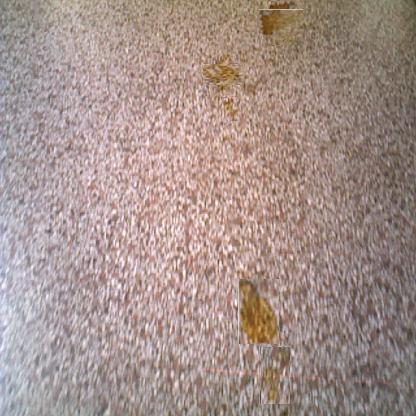liquid: (238, 278, 279, 344), (260, 346, 290, 404), (264, 5, 299, 41), (208, 59, 239, 90), (221, 97, 237, 121)
